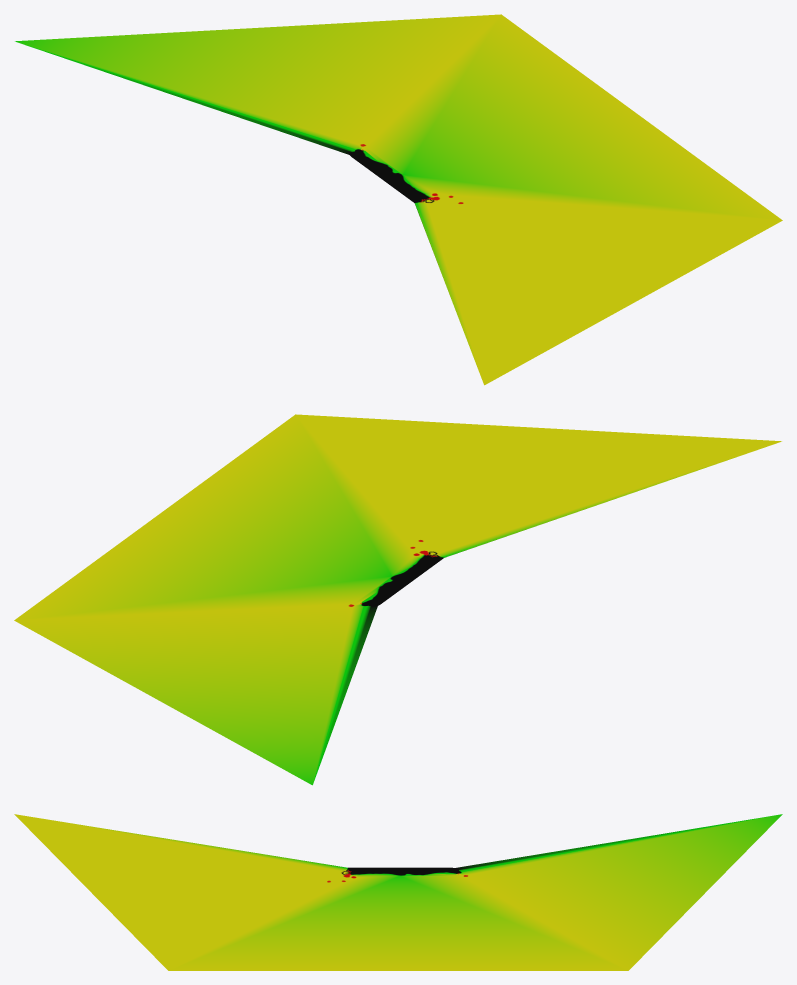
File: Water mesh.fbx
3 views of the same model, one above another, from view 1: azimuth 30°, elevation 25°; view 2: azimuth 150°, elevation 25°; view 3: azimuth 270°, elevation 25° (orthographic). The views are drawn at different scales.
Visible parts, largest first — view 1: Water_mesh; view 2: Water_mesh; view 3: Water_mesh.
Part boxes in pixels (x1,y1,x2,y2): Water_mesh: (15, 14, 782, 385); Water_mesh: (14, 414, 781, 785); Water_mesh: (14, 814, 782, 970).
Size of the model in its own units: 165779 by 0.00528 by 343549.
